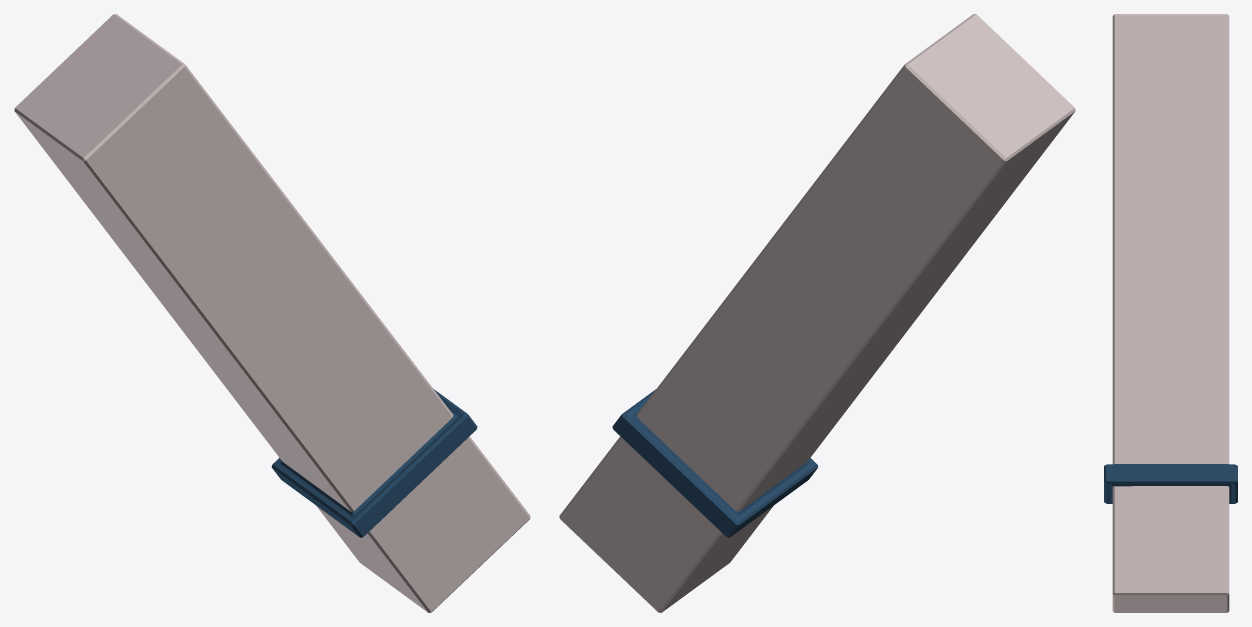
Rendered from RavennaLeftFarm.obj.
3 views of the same model, side by side, from view 1: azimuth 30°, elevation 25°; view 2: azimuth 150°, elevation 25°; view 3: azimuth 270°, elevation 25° (orthographic). The views are drawn at different scales.
Parts seen in each view (by area): view 1: LeftFarm; view 2: LeftFarm; view 3: LeftFarm.
Boxes of the visible parts, x1,y1,x2,y2 form: LeftFarm: [14, 14, 530, 612]; LeftFarm: [559, 14, 1075, 612]; LeftFarm: [1104, 14, 1237, 612].
Bounding box in the file's own units: 1.87 × 2.44 × 0.5916.
